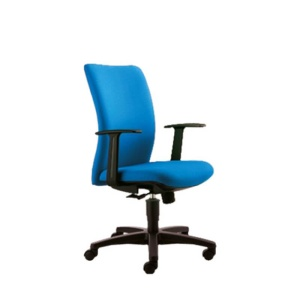chair: (82, 63, 217, 274)
